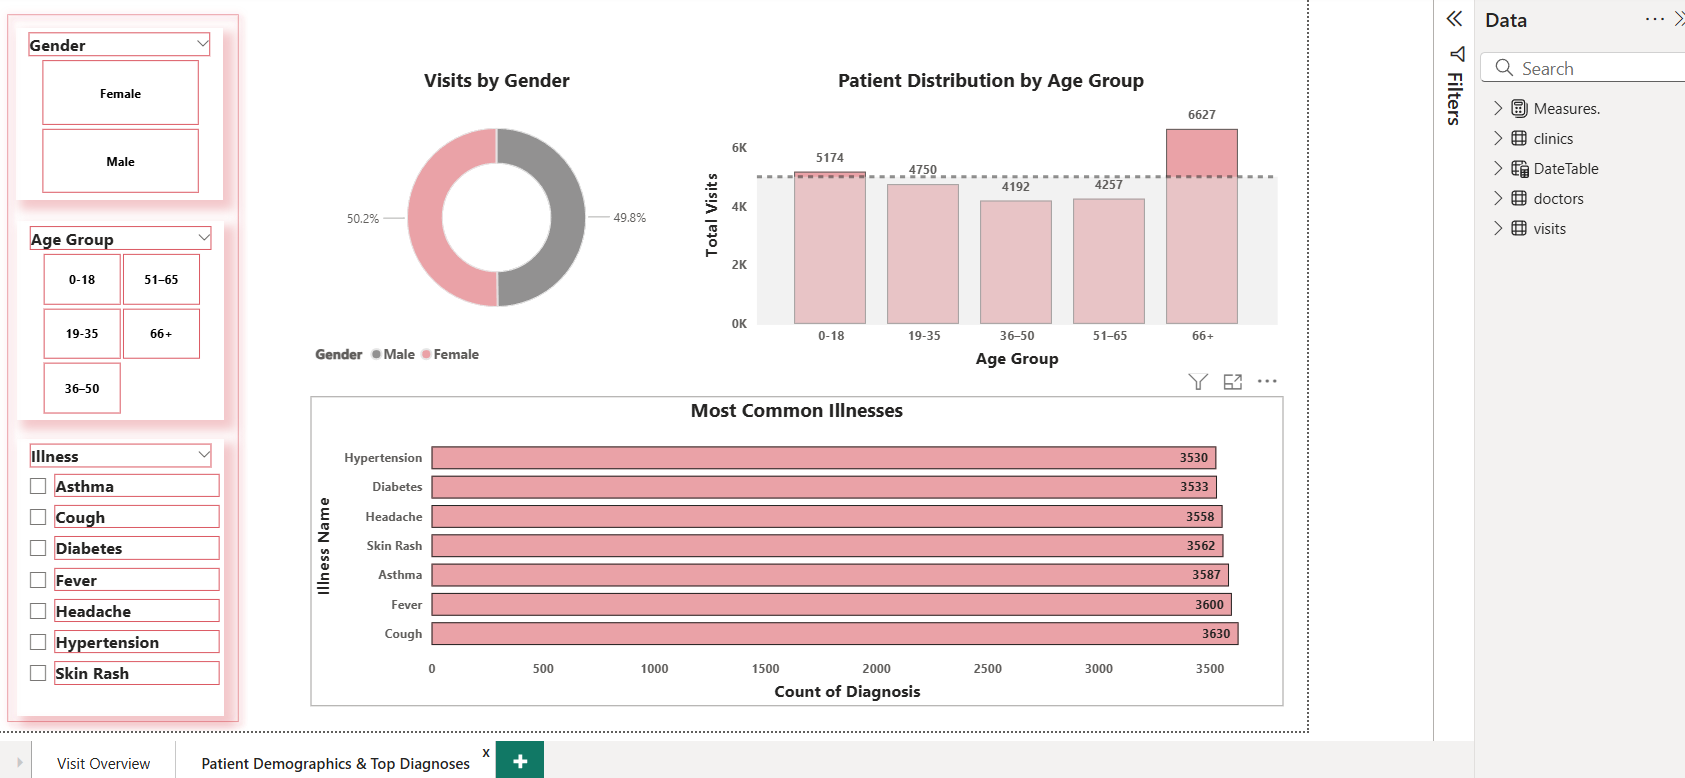

Layout of this report page (visuals, bound fields, positions):
{"tool":"powerbi","page":{"name":"Patient Demographics & Top Diagnoses","canvas":[1280,720],"ordinal":1},"visuals":[{"type":"donutChart","title":"Visits by Gender","fields":{"Category":["visits.Gender"],"Y":["Measures..Total Visits"]},"box":[305.7,69.7,364.4,300.8],"z":0},{"type":"barChart","title":"Most Common Illnesses","fields":{"Category":["visits.Illness"],"Y":["Measures..Total Visits"]},"box":[305.7,392.5,951.4,303.3],"z":1000},{"type":"clusteredColumnChart","title":"Patient Distribution by Age Group","fields":{"Category":["visits.Age Group"],"Y":["Measures..Total Visits"]},"box":[686,69.7,571.1,300.8],"z":2000},{"type":"shape","box":[0,9.8,244.6,710.5],"z":2001},{"type":"slicer","fields":{"Values":["visits.Gender"]},"box":[17.3,31.7,203.4,168.8],"z":2002},{"type":"slicer","fields":{"Values":["visits.Age Group"]},"box":[18.8,220.7,203.4,194.8],"z":2003},{"type":"slicer","fields":{"Values":["visits.Illness"]},"box":[18.8,434.3,203.4,271.2],"z":2004}]}

Visuals, with their boxes on the page's 1280x720 design canvas (x1, y1, x2, y2). These are canvas units, not pixel positions in the 1685x778 screenshot, which may show the page scaled, cropped or inside an application window:
"Visits by Gender" donutChart: region(306, 70, 670, 370)
"Most Common Illnesses" barChart: region(306, 392, 1257, 696)
"Patient Distribution by Age Group" clusteredColumnChart: region(686, 70, 1257, 370)
shape: region(0, 10, 245, 720)
slicer - visits.Gender: region(17, 32, 221, 200)
slicer - visits.Age Group: region(19, 221, 222, 416)
slicer - visits.Illness: region(19, 434, 222, 706)
